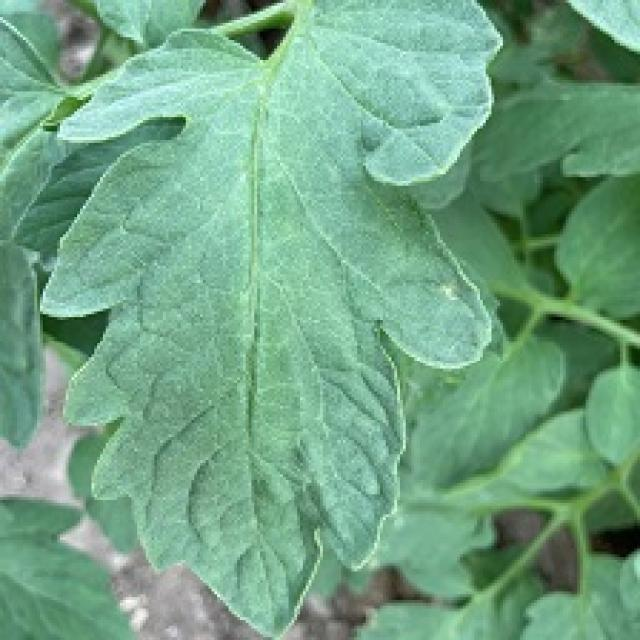Healthy: (38, 0, 497, 639)
